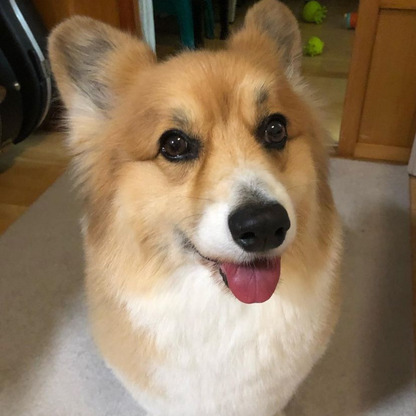Corgi: (44, 10, 350, 399)
